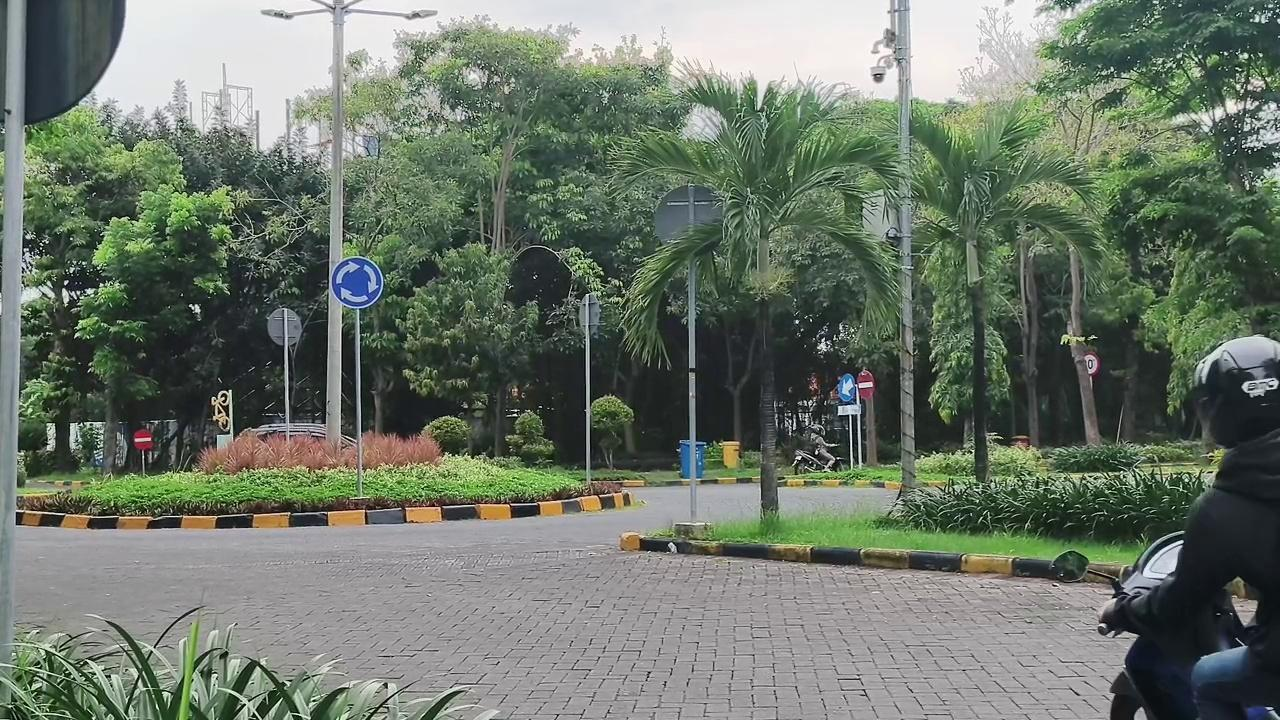Helmet: (1099, 336, 1279, 719), (805, 424, 835, 468)
Motor: (1051, 532, 1183, 595), (792, 449, 844, 474)
